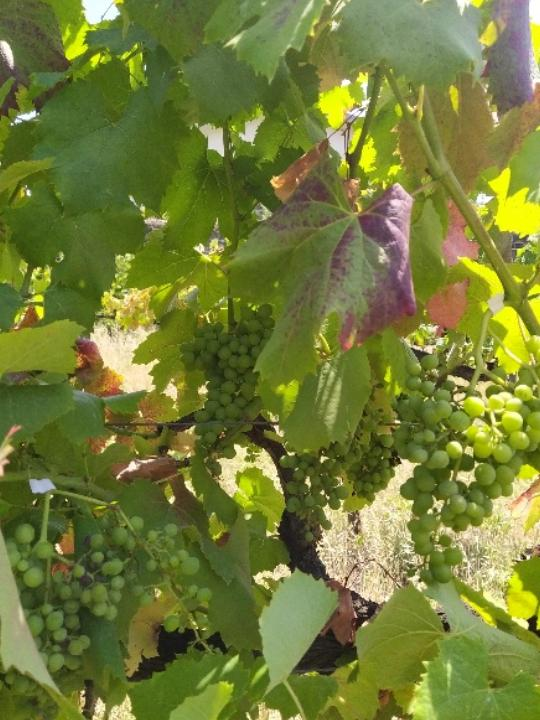grape: (0, 514, 224, 720), (391, 334, 540, 587), (181, 302, 282, 470)
